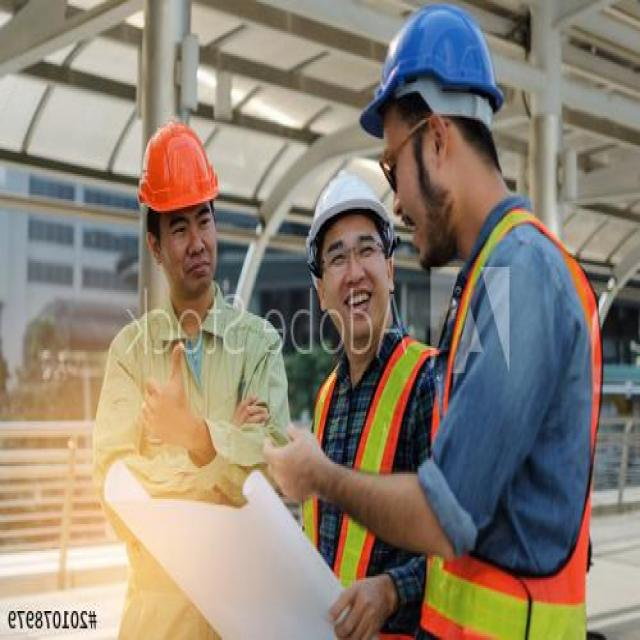Reflective-Jacket: (412, 195, 606, 640), (296, 326, 439, 624)
Safety-Helmet: (357, 2, 508, 149), (127, 110, 229, 226), (298, 155, 404, 259)
